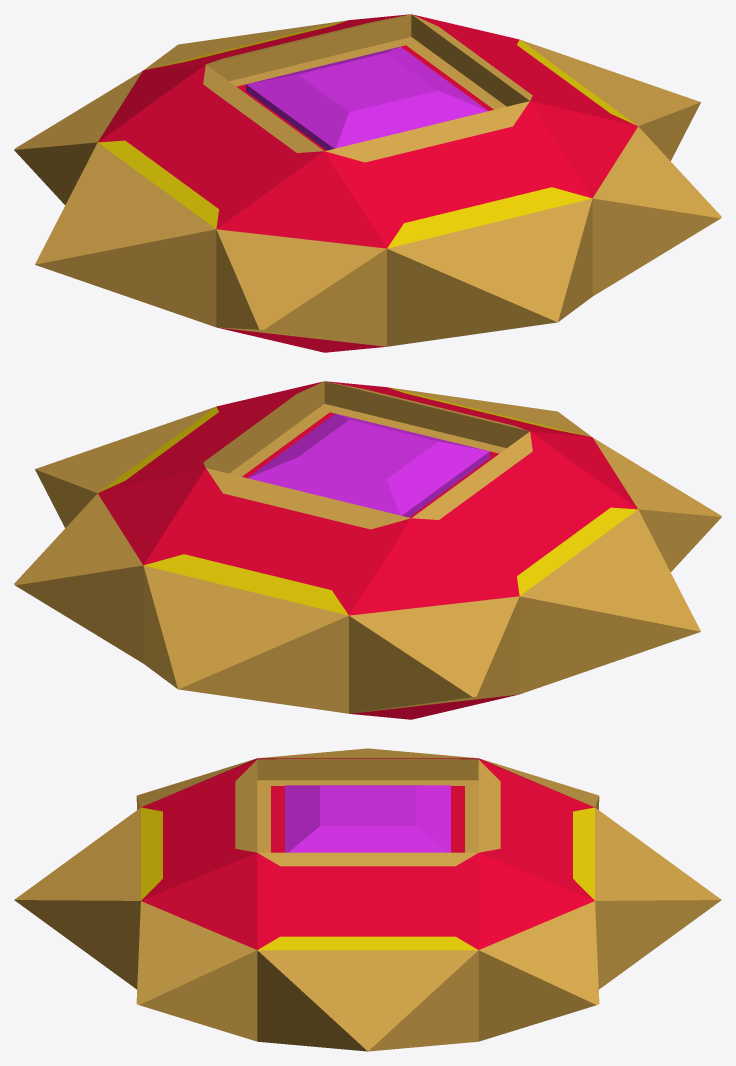
The model's file is Star.fbx.
3 views of the same model, one above another, from view 1: azimuth 30°, elevation 25°; view 2: azimuth 150°, elevation 25°; view 3: azimuth 270°, elevation 25° (orthographic). The views are drawn at different scales.
Parts seen in each view (by area): view 1: Cube; view 2: Cube; view 3: Cube.
Boxes of the visible parts, box(x1,y1,x2,y2) form: Cube: box(14, 14, 721, 352); Cube: box(14, 381, 721, 719); Cube: box(14, 748, 721, 1051).
Bounding box in the file's own units: 316 × 91.52 × 312.
